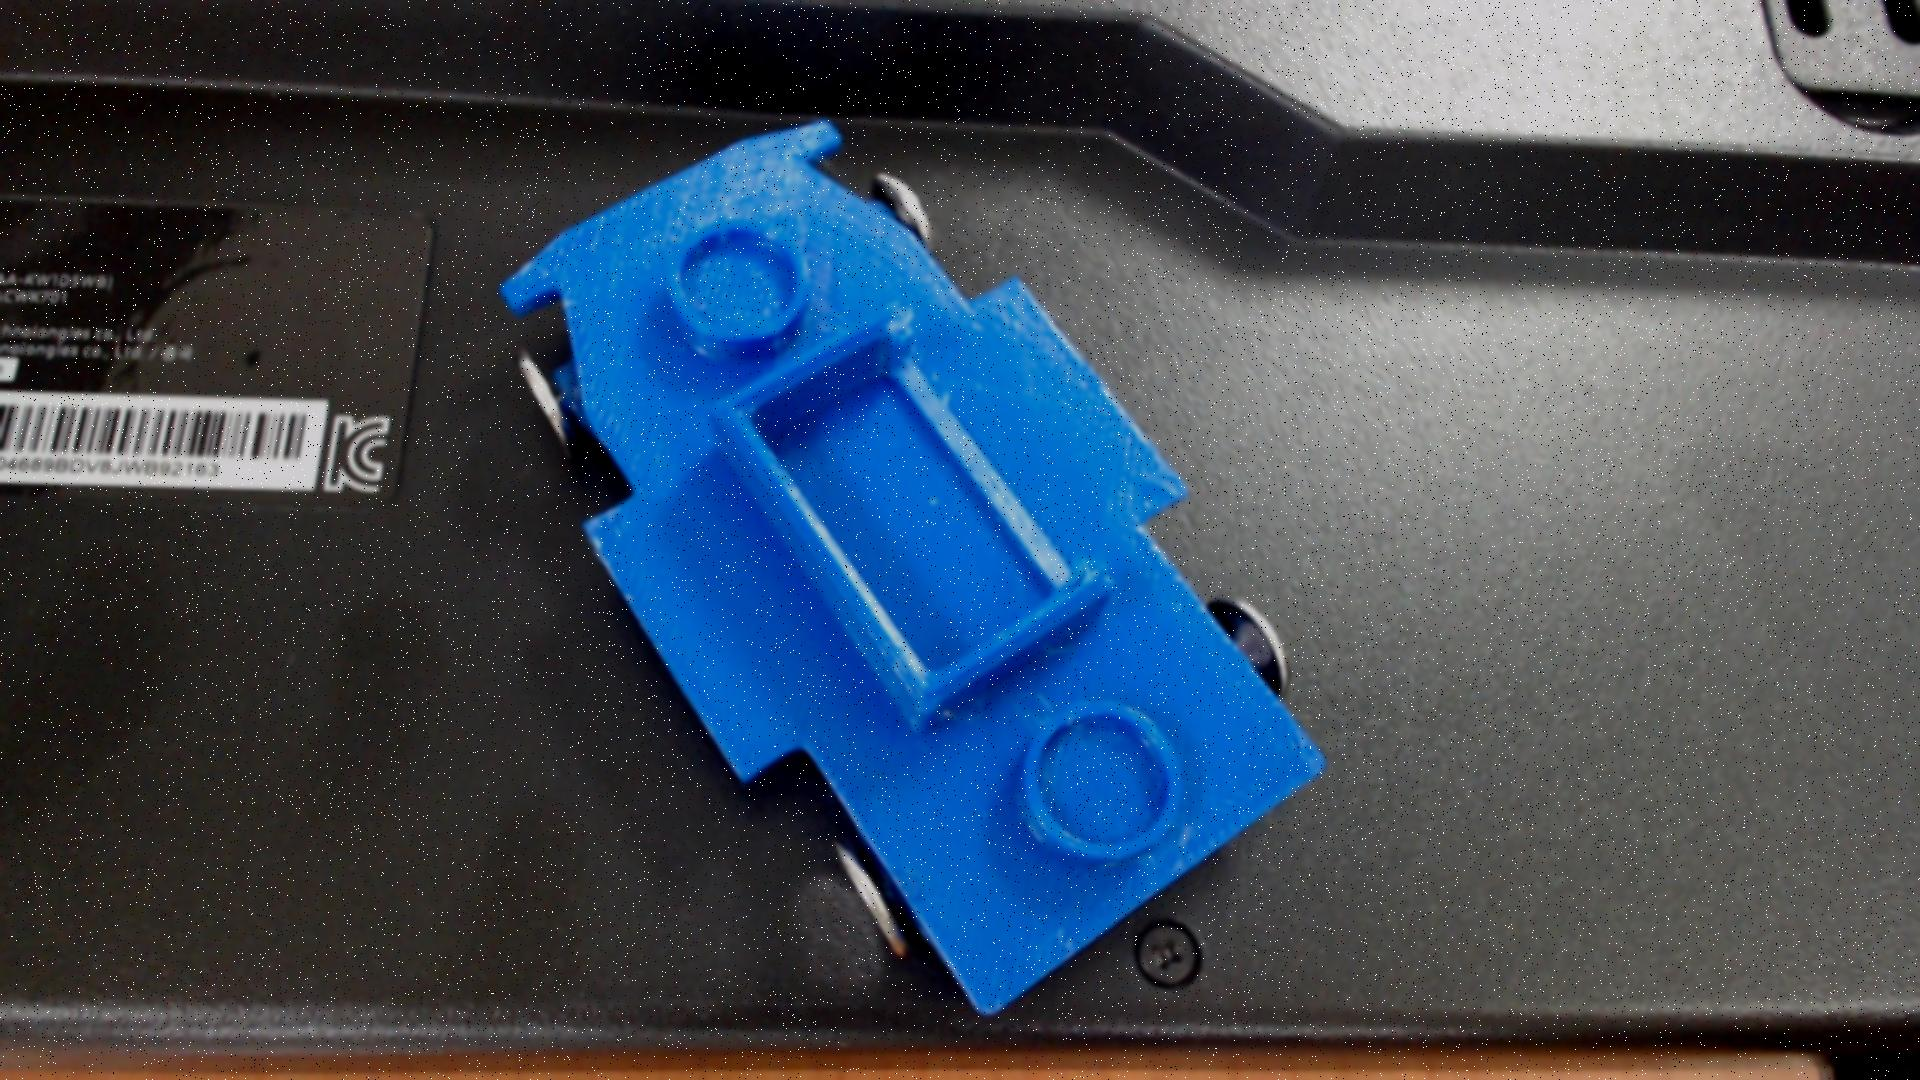lower_ng: (673, 280, 1134, 762)
